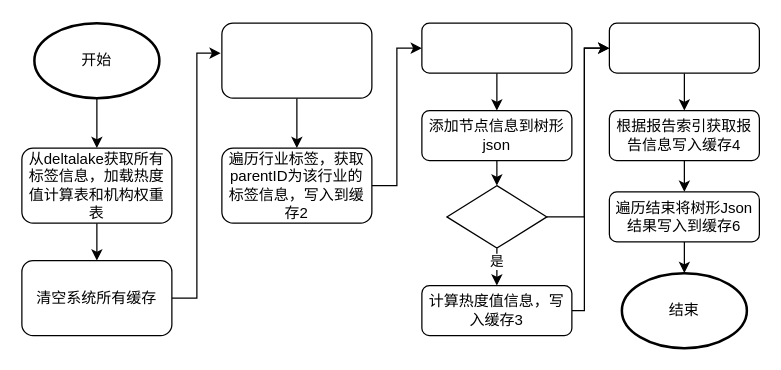
Some shapes in this 781 by 370 pixel diagram are drawn without their labels. The shapes that lost their labels are listed below. From the top down, each one's centre as x and y in pixels, then its label:
At (296,60): "筛选出class为行业的标签信息，写入到缓存1中".
At (496,47): "遍历标签信息".
At (683,47): "标签信息写入到缓存5".
At (496,216): "class是否为概念".
